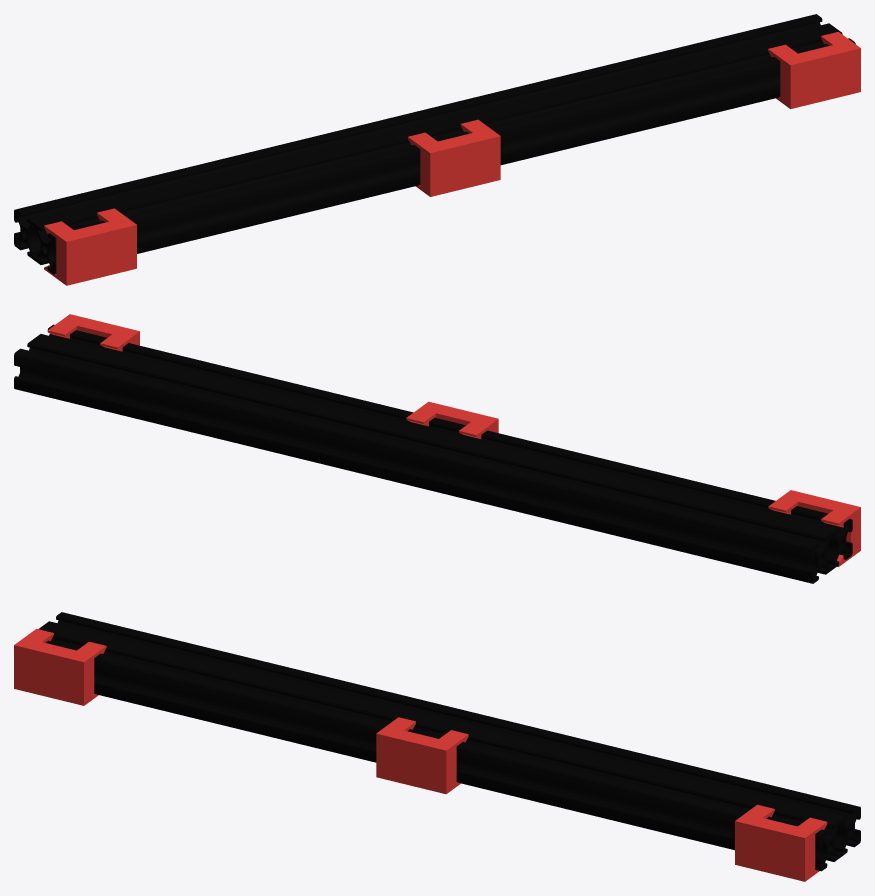
File: Long250Assembly.fbx
3 renders of one model, top to bottom at view 1: azimuth 30°, elevation 25°; view 2: azimuth 150°, elevation 25°; view 3: azimuth 330°, elevation 25°, orthographic.
Parts seen in each view (by area): view 1: FinalAssemblyV3 - long250-5; view 2: FinalAssemblyV3 - long250-5; view 3: FinalAssemblyV3 - long250-5.
Boxes of the visible parts, <box> form: FinalAssemblyV3 - long250-5: <box>14,14,860,285</box>; FinalAssemblyV3 - long250-5: <box>14,314,860,583</box>; FinalAssemblyV3 - long250-5: <box>14,612,860,881</box>.
Bounding box in the file's own units: 45500 × 2380 × 5000.
